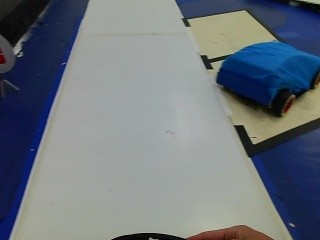car: (215, 42, 318, 117)
